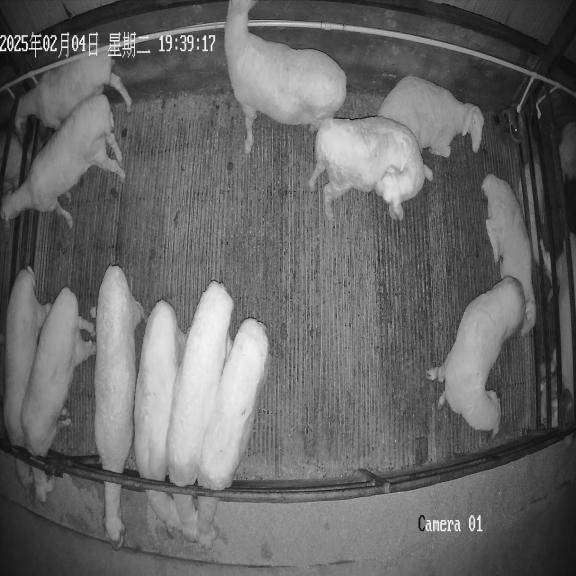drinking: (15, 53, 131, 129)
eating: (194, 318, 270, 548), (166, 281, 233, 541), (21, 288, 96, 502), (93, 265, 148, 550), (134, 300, 186, 532), (3, 266, 52, 488)
lying: (481, 174, 536, 336), (378, 76, 484, 157)
stand: (224, 0, 346, 154), (1, 94, 125, 228), (427, 277, 523, 436), (309, 116, 432, 220)
